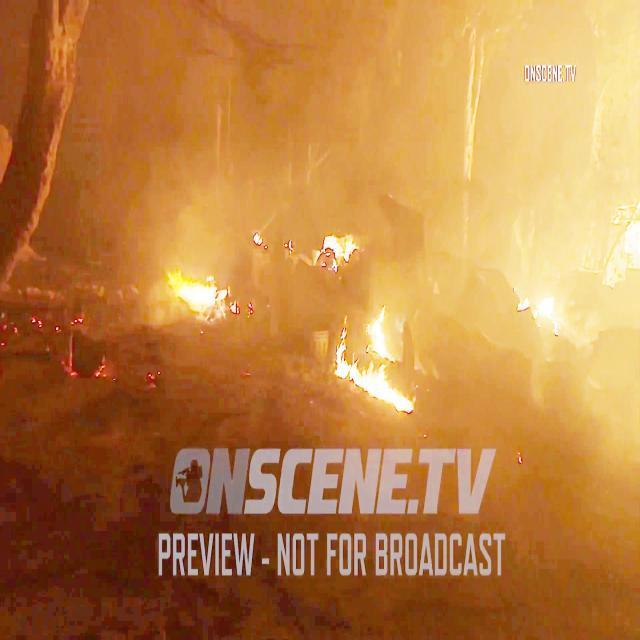Fire: (332, 322, 416, 416), (171, 261, 233, 319)
